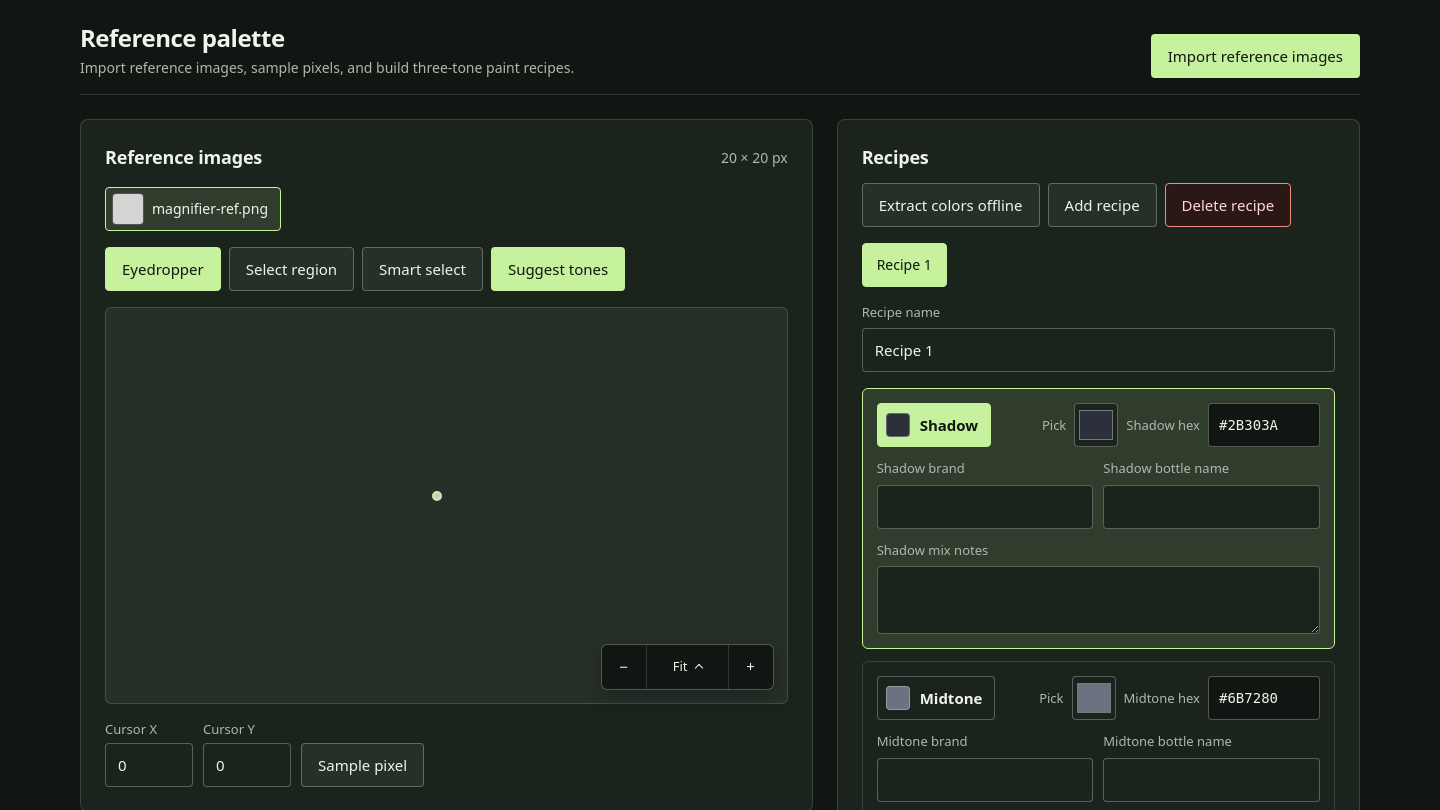
Test case: PaletteWorkspace › shows a live cursor magnifier with crosshair and source pixels during region selection, works at edges, and clears when leaving/switching tools
The image size is (1440, 810).
Earlier steps of the test are not shown.
Later steps or results of the test are not shown.
Expected: the drawing with test id "reference-canvas" is shown, [436,495,456,515]
Click the button "Select region" at (291, 269), box [229,247,354,291]
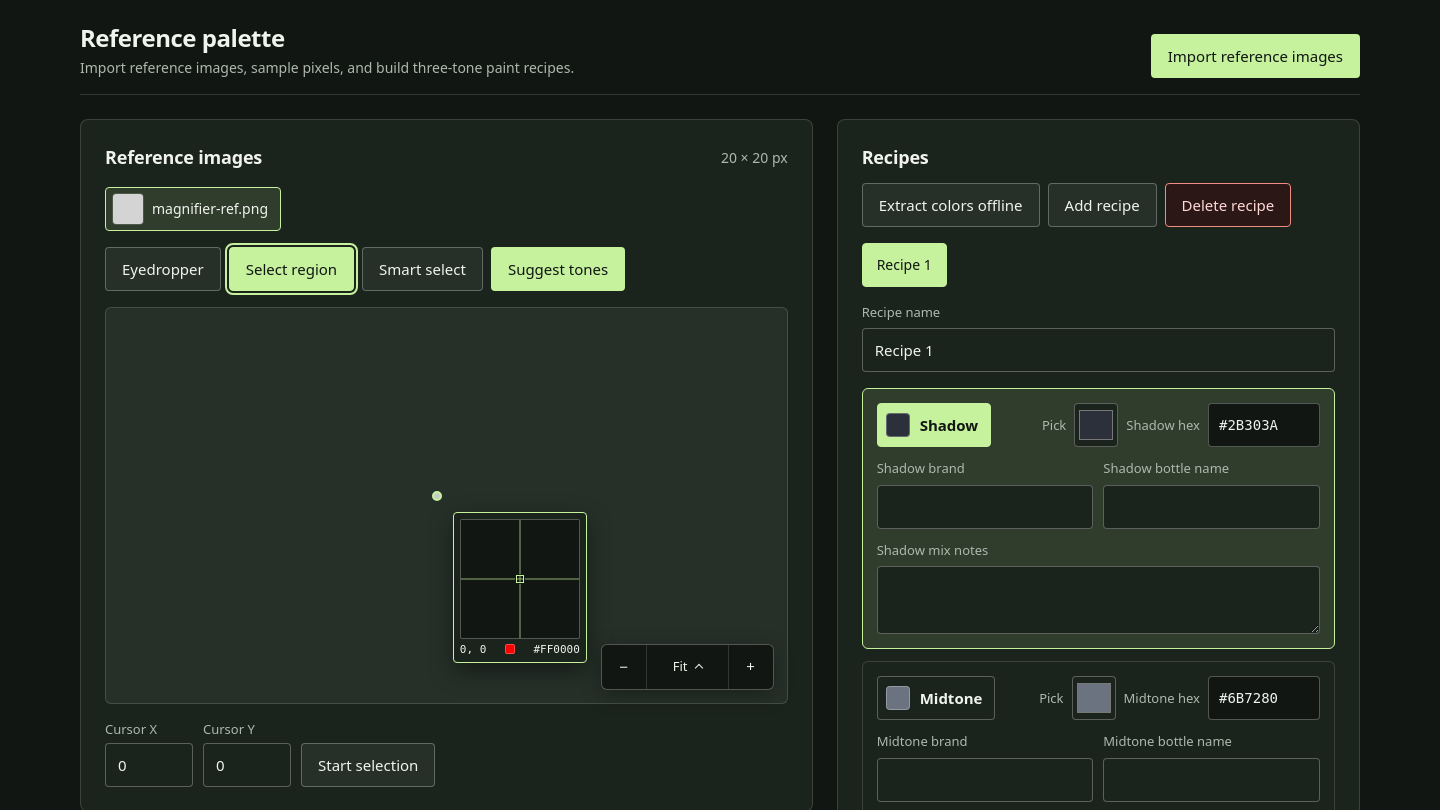
Expected: the element with test id "magnifier-crosshair" is shown, [461,520,579,638]
Expected: the element with test id "region-magnifier" shows "0, 0", [453,512,587,663]
Expected: the element with test id "region-magnifier" shows "#FF0000", [534,643,580,656]
Press the mouse on the drawing with test id "reference-canvas" at (446, 505), box [436,495,456,515]
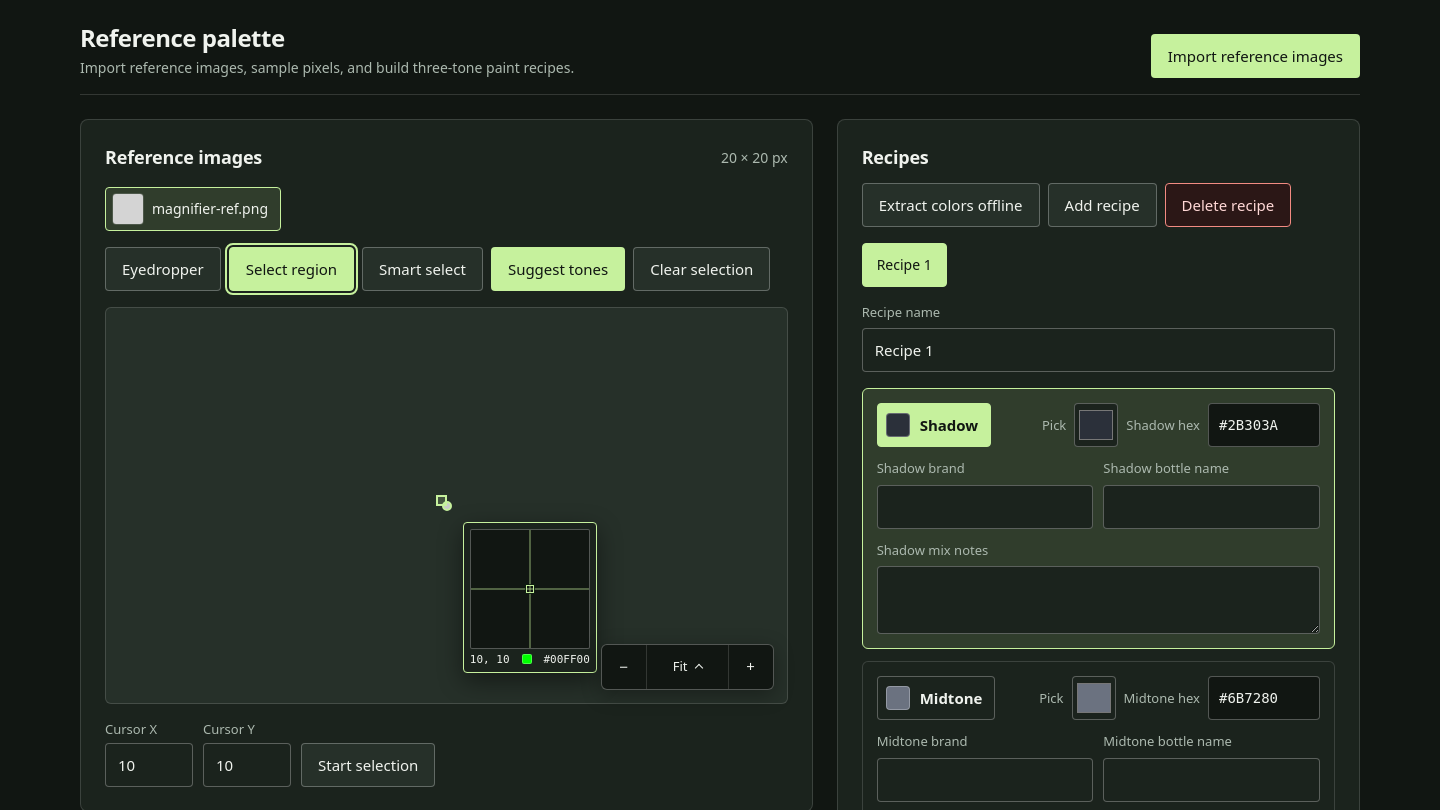
Expected: the button "Clear selection" is shown, [633,247,770,291]
Click the button "Eyedropper" at (163, 269), box [105,247,221,291]
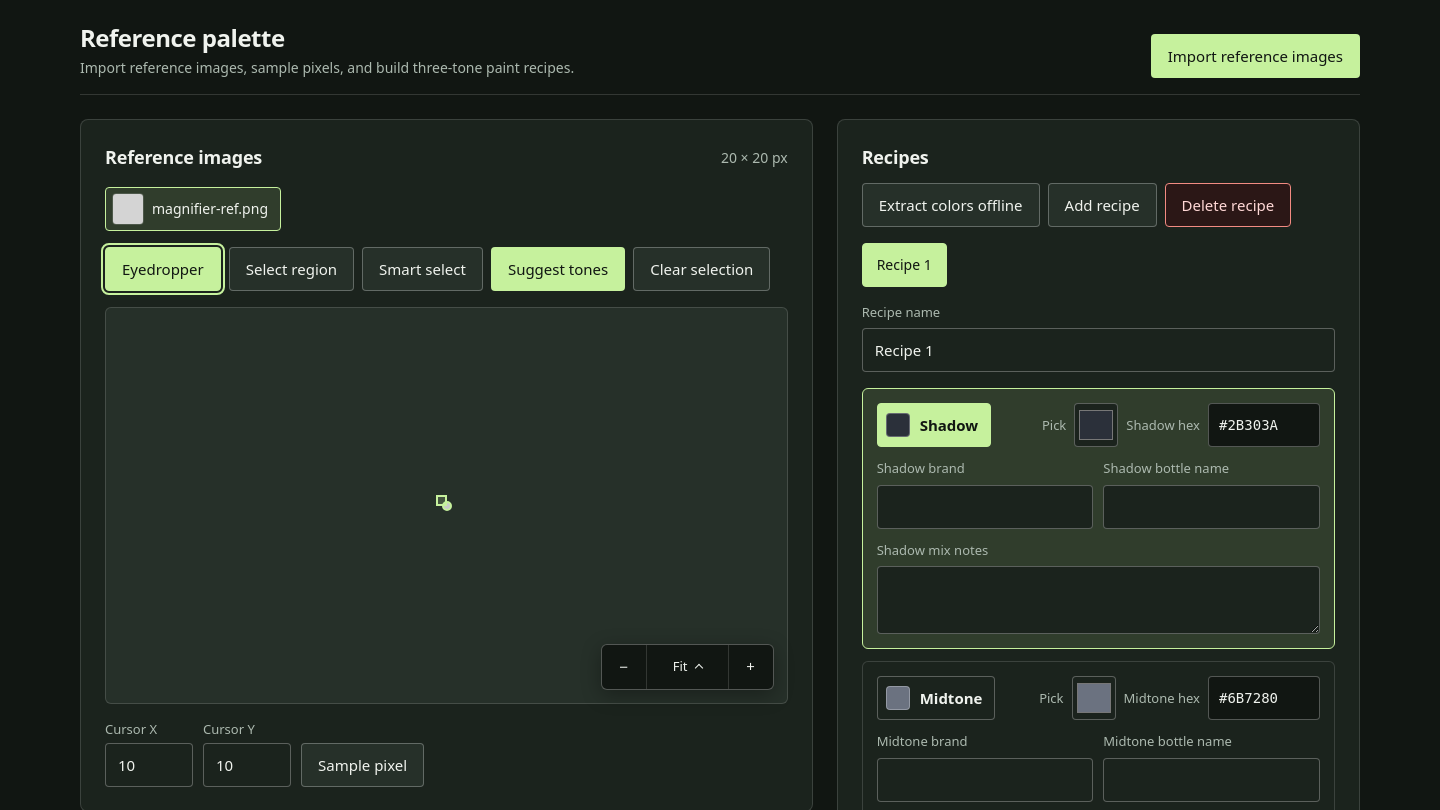
Expected: the element with test id "region-magnifier" is gone
